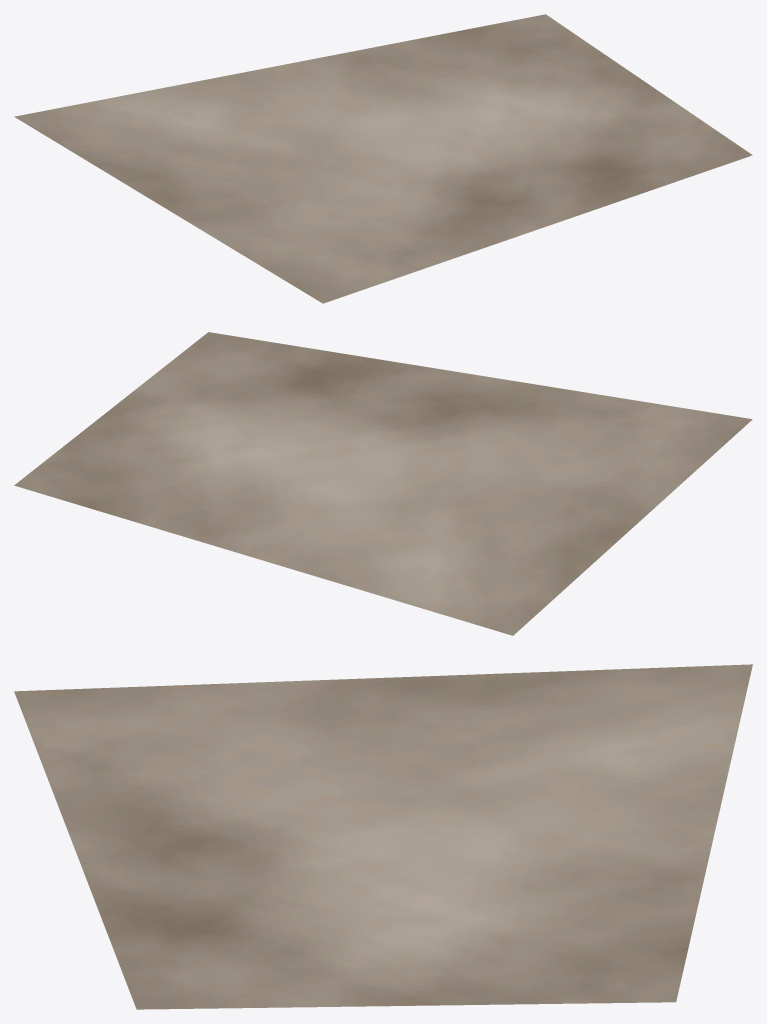
File: web_14.fbx
3 views of the same model, one above another, from view 1: azimuth 30°, elevation 25°; view 2: azimuth 150°, elevation 25°; view 3: azimuth 270°, elevation 25° (orthographic). The views are drawn at different scales.
Parts seen in each view (by area): view 1: mine_tileset/mine_web02_mat; view 2: mine_tileset/mine_web02_mat; view 3: mine_tileset/mine_web02_mat.
Part boxes in pixels (left/top/right/bottom): mine_tileset/mine_web02_mat: left=14, top=14, right=752, bottom=303; mine_tileset/mine_web02_mat: left=14, top=332, right=752, bottom=635; mine_tileset/mine_web02_mat: left=14, top=664, right=752, bottom=1009.
Bounding box in the file's own units: 4.07 × 0 × 3.69.
